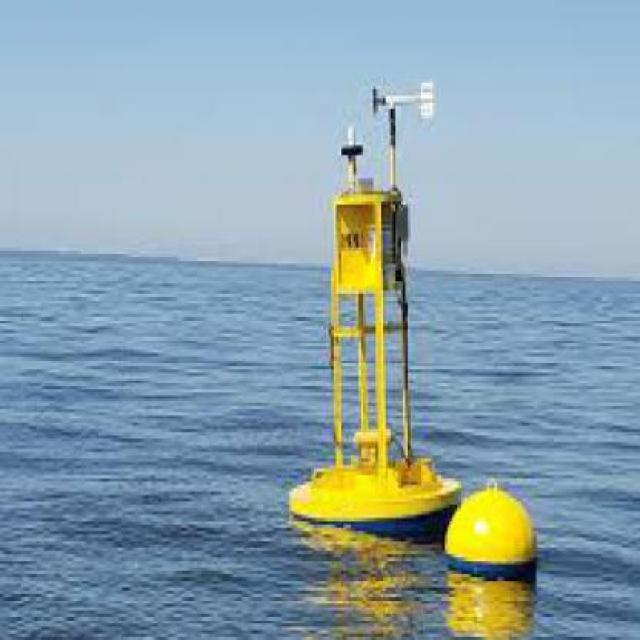buoy: (280, 76, 474, 549)
